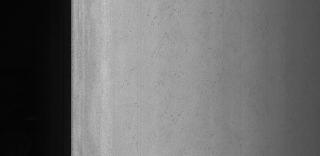silk spot: (140, 6, 208, 74)
